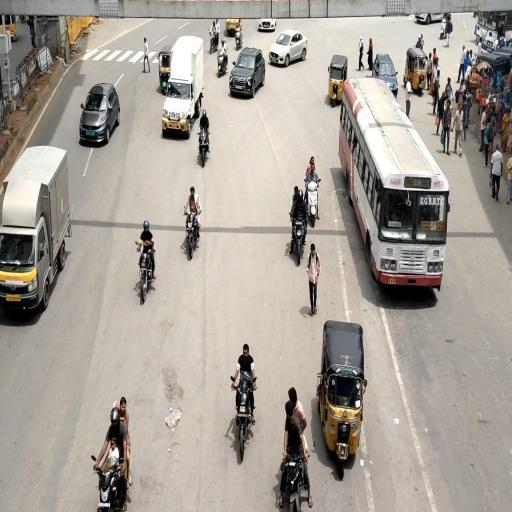helmet: (88, 393, 138, 512), (126, 211, 166, 308)
no helmet: (227, 342, 274, 458), (182, 187, 217, 291)
